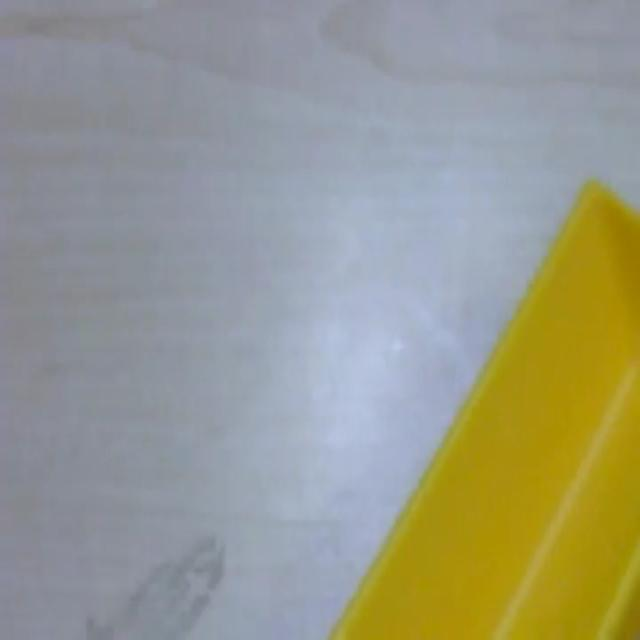yellow_block: (326, 176, 638, 637)
